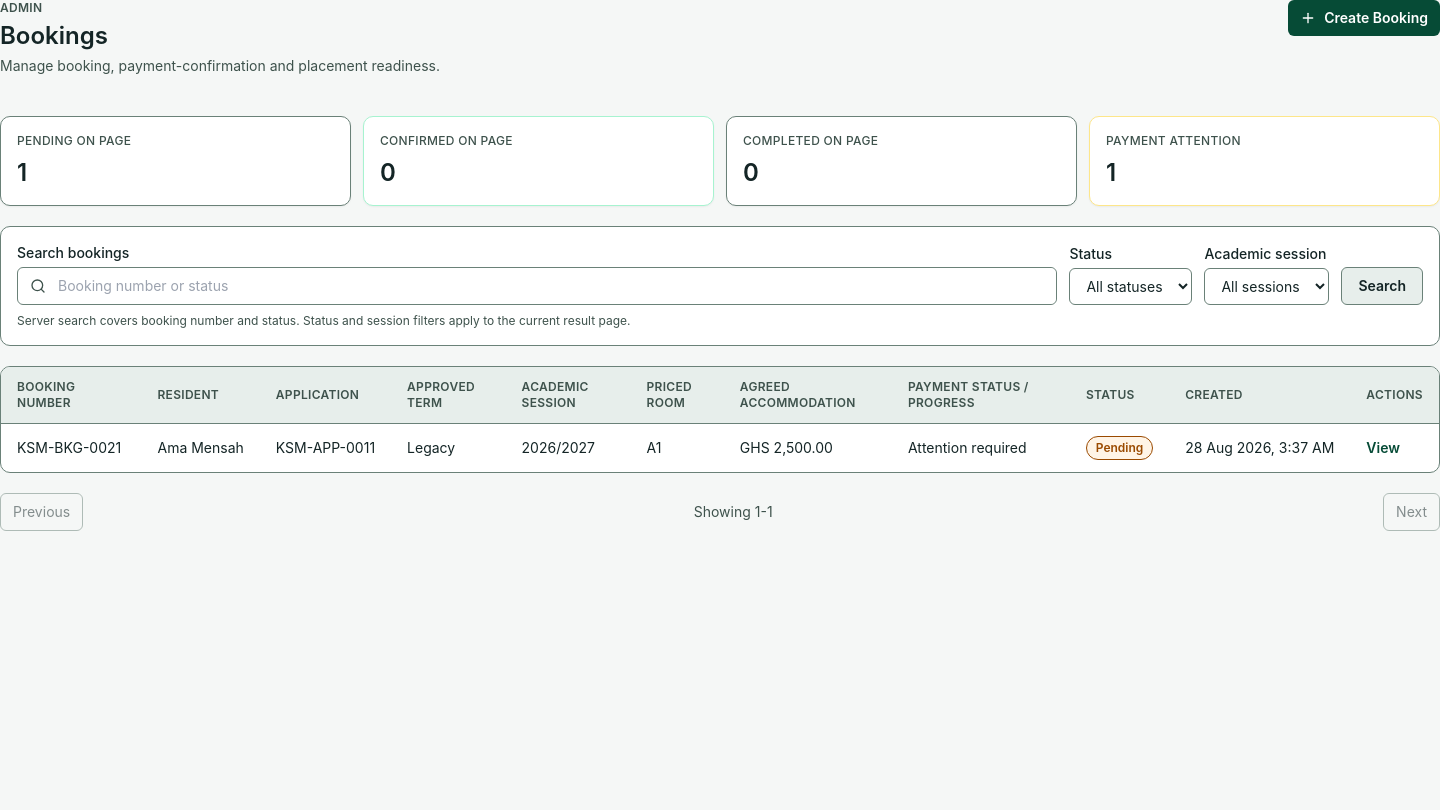
Scenario: BookingsPage › shows payment attention
The image size is (1440, 810).
Click the button "View": (1383, 448) [1366,438,1400,458]
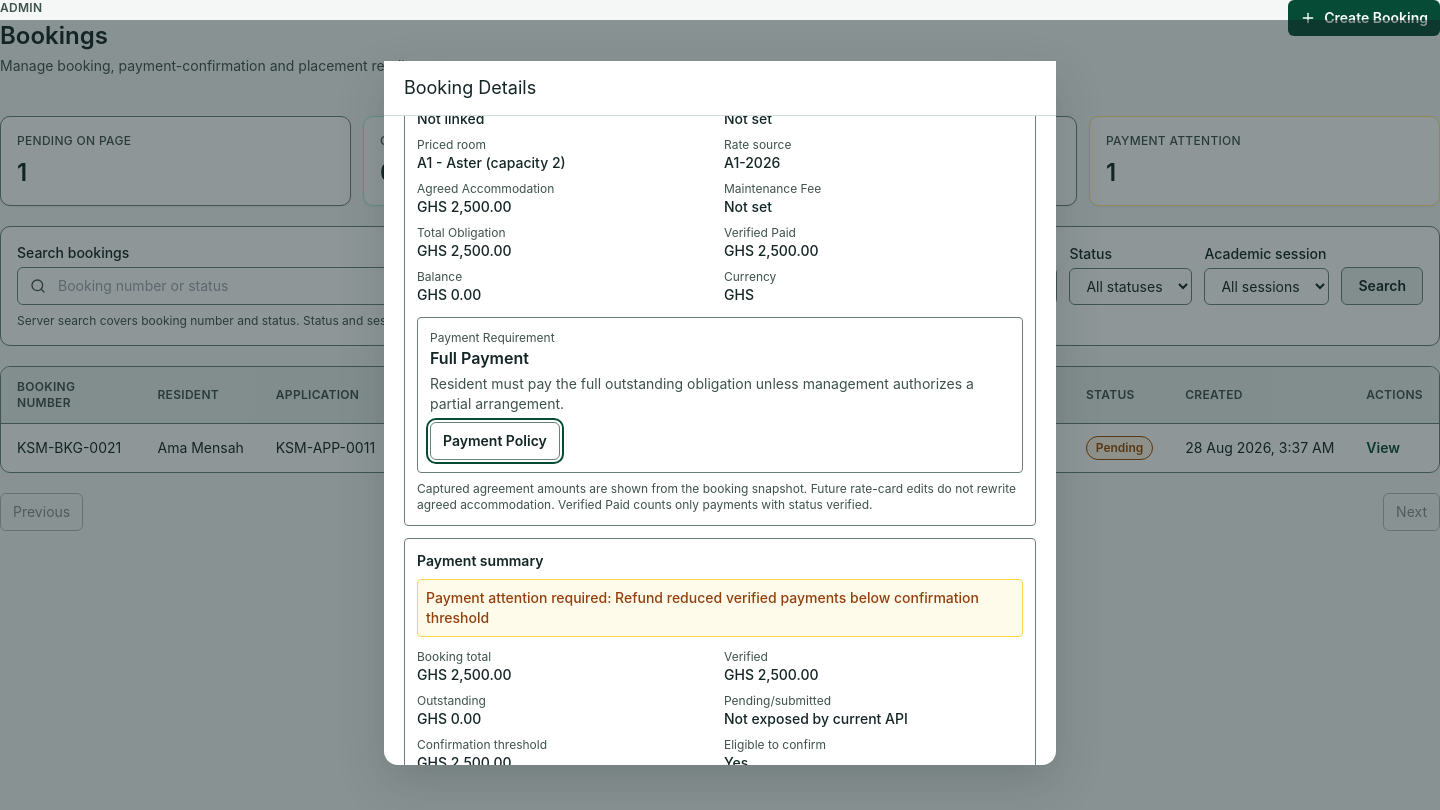
Expected: the text "Payment attention required: Refund reduced" is shown, [417,578,1023,636]
